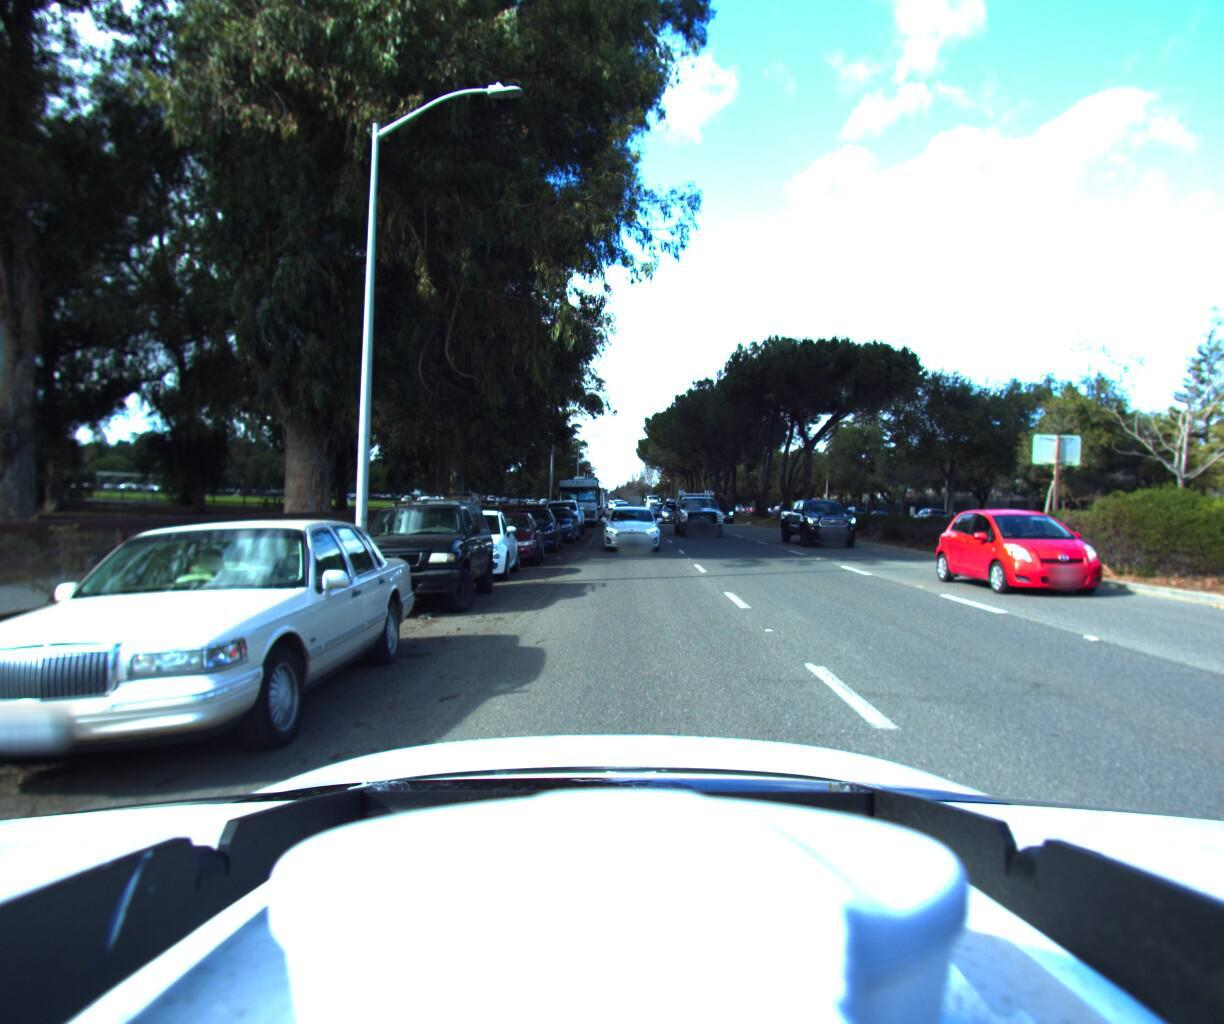car: (327, 483, 499, 627), (960, 504, 1179, 611), (421, 510, 523, 585), (782, 495, 873, 550), (464, 510, 547, 570), (497, 506, 562, 555), (673, 484, 731, 538), (599, 503, 660, 553), (527, 505, 580, 545), (539, 497, 584, 538), (661, 496, 691, 525), (706, 498, 739, 524), (646, 502, 667, 519)
other_vehicle: (555, 476, 599, 529)
